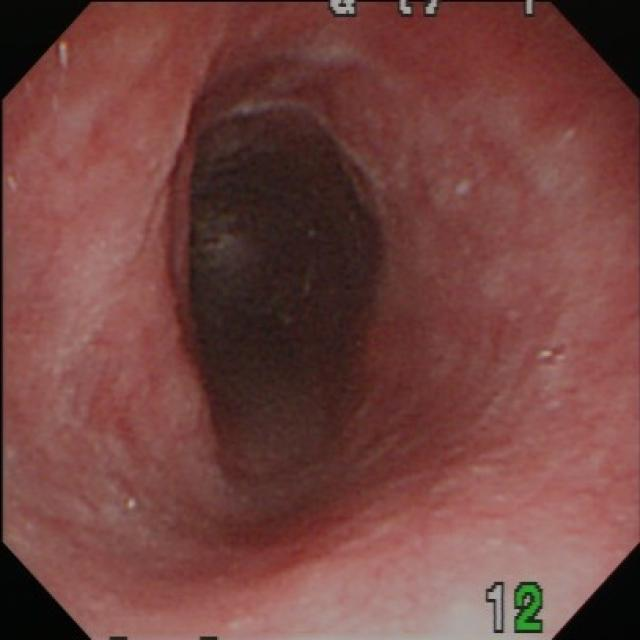E: (154, 95, 402, 494)
J: (4, 42, 213, 525), (434, 93, 621, 400)
S: (485, 581, 547, 636), (325, 3, 545, 18)
